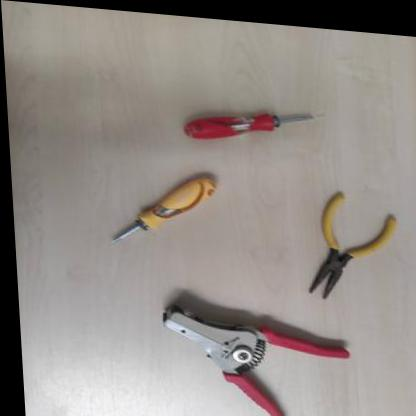Screwdriverrotation: (102, 161, 222, 251), (178, 92, 330, 146)
